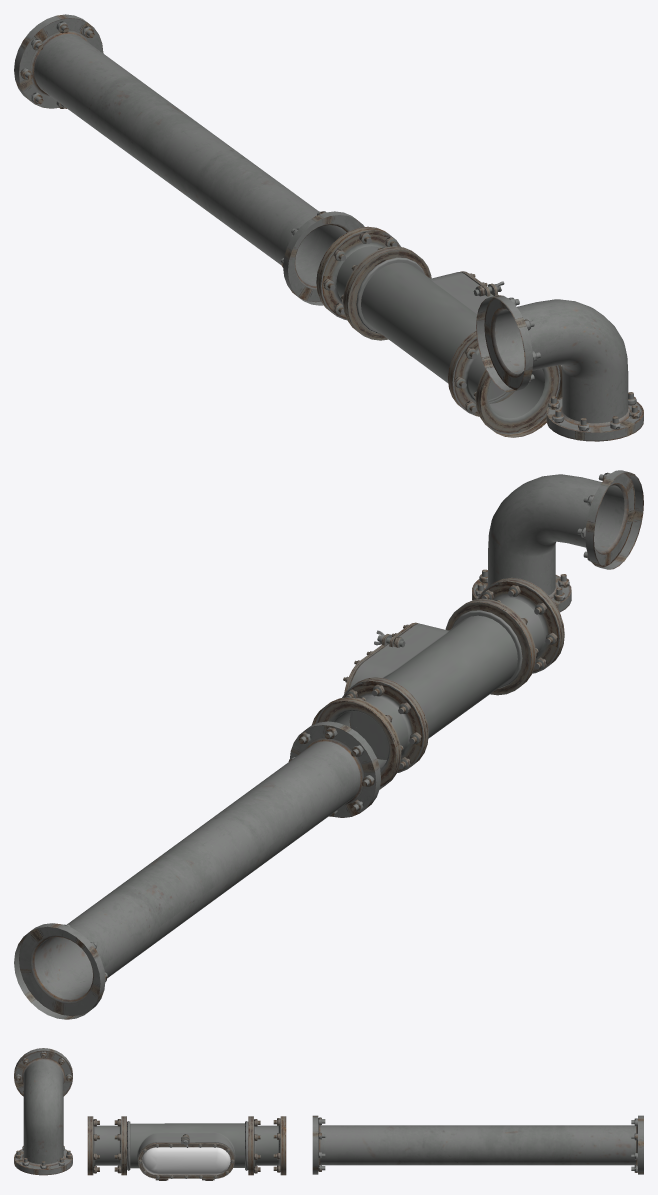
Rendered from Pipes.fbx.
The picture shows the model from 3 angles, top to bottom: view 1: azimuth 30°, elevation 25°; view 2: azimuth 150°, elevation 25°; view 3: azimuth 270°, elevation 25°; orthographic projection. The views are drawn at different scales.
Visible parts, largest first — view 1: StaticMeshActor_1528, StaticMeshActor_602, StaticMeshActor_892; view 2: StaticMeshActor_1528, StaticMeshActor_602, StaticMeshActor_892; view 3: StaticMeshActor_1528, StaticMeshActor_602, StaticMeshActor_892.
Boxes of the visible parts, <box> form: StaticMeshActor_1528: <box>14,14,364,305</box>; StaticMeshActor_602: <box>316,226,562,437</box>; StaticMeshActor_892: <box>476,295,643,441</box>; StaticMeshActor_1528: <box>14,721,380,1019</box>; StaticMeshActor_602: <box>311,577,564,789</box>; StaticMeshActor_892: <box>472,470,643,612</box>; StaticMeshActor_1528: <box>312,1115,643,1174</box>; StaticMeshActor_602: <box>87,1116,286,1180</box>; StaticMeshActor_892: <box>14,1048,72,1175</box>.
Size of the model in its own units: 145 by 181 by 950.
